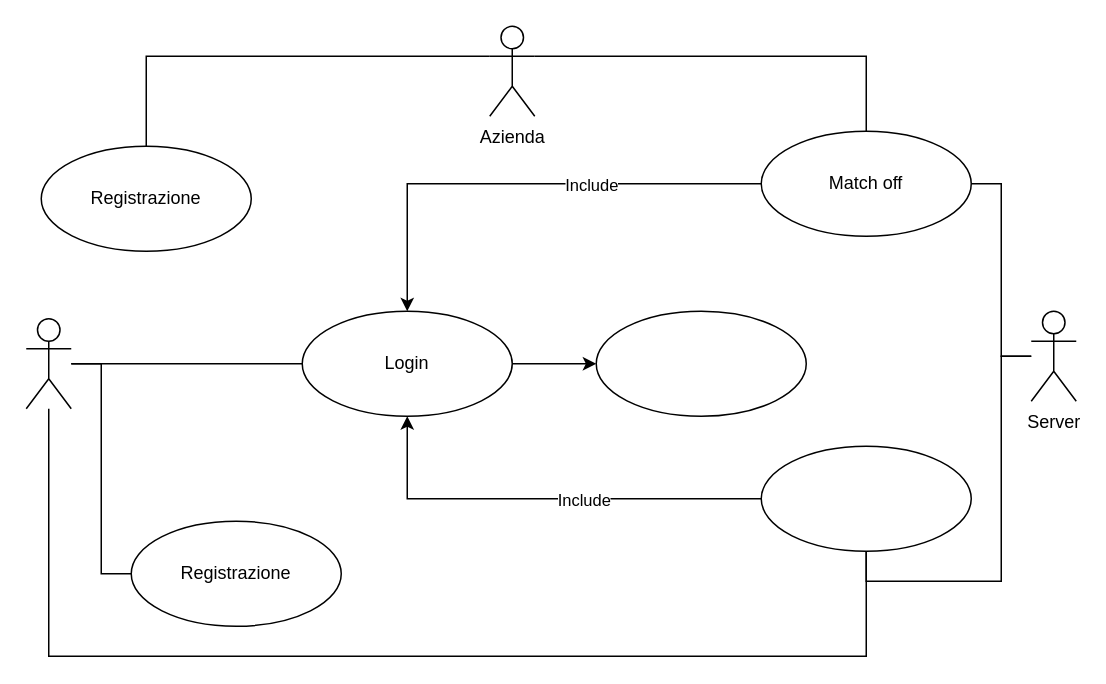
Image size: 1106x684. Some labels were removed from this diagram. Here are the shapes that lost their labels. From the top down, the centre of each, then its label:
pixel 48 363: Actor
pixel 700 363: Password reset
pixel 865 498: Richiesta
